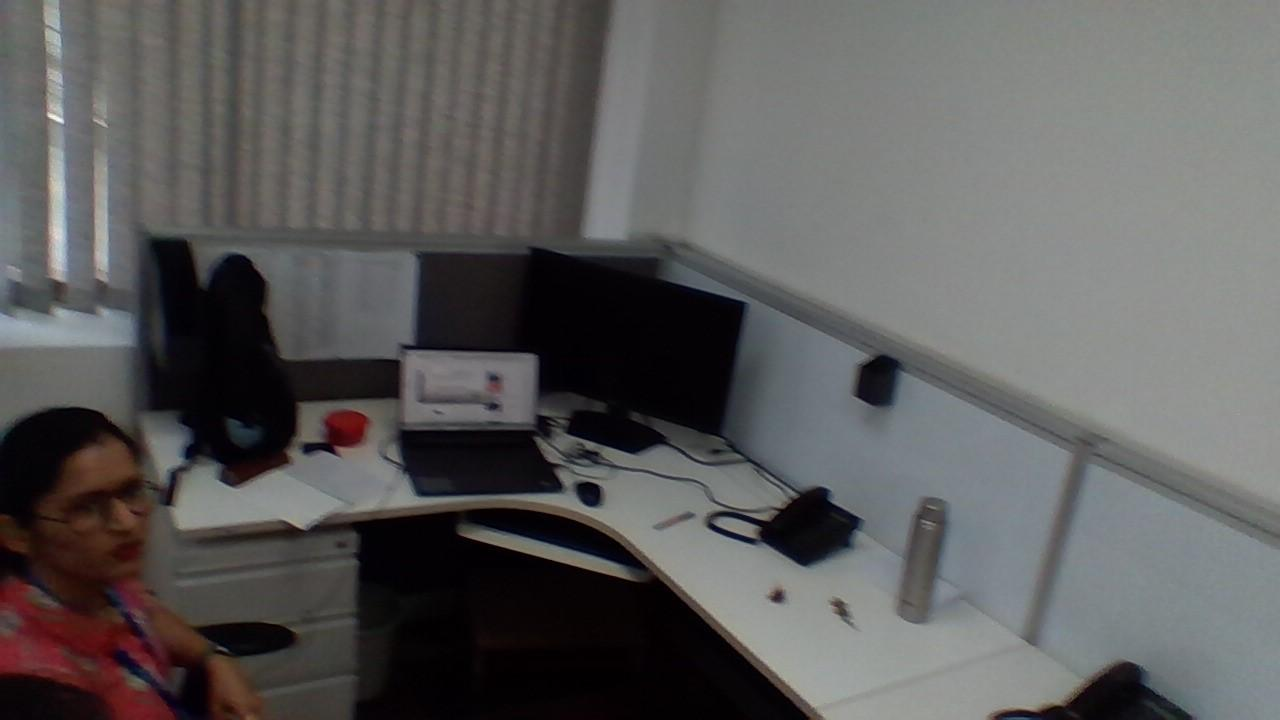cockroach: (765, 582, 786, 606)
lizard: (830, 587, 858, 631)
